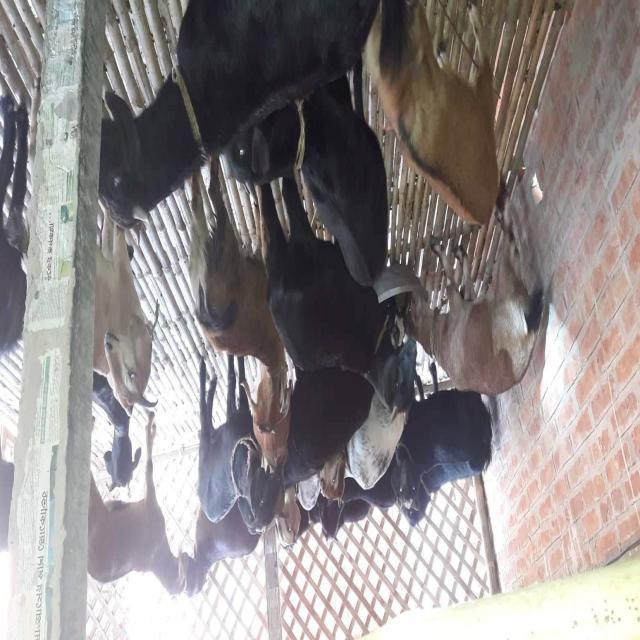Goat: (98, 2, 381, 238), (256, 176, 420, 426), (225, 62, 389, 290), (362, 2, 501, 229), (402, 182, 544, 398), (186, 157, 292, 437), (86, 412, 186, 600), (196, 355, 286, 537), (391, 362, 493, 515), (92, 200, 159, 418), (181, 501, 261, 600), (0, 96, 30, 359), (92, 372, 142, 494)
